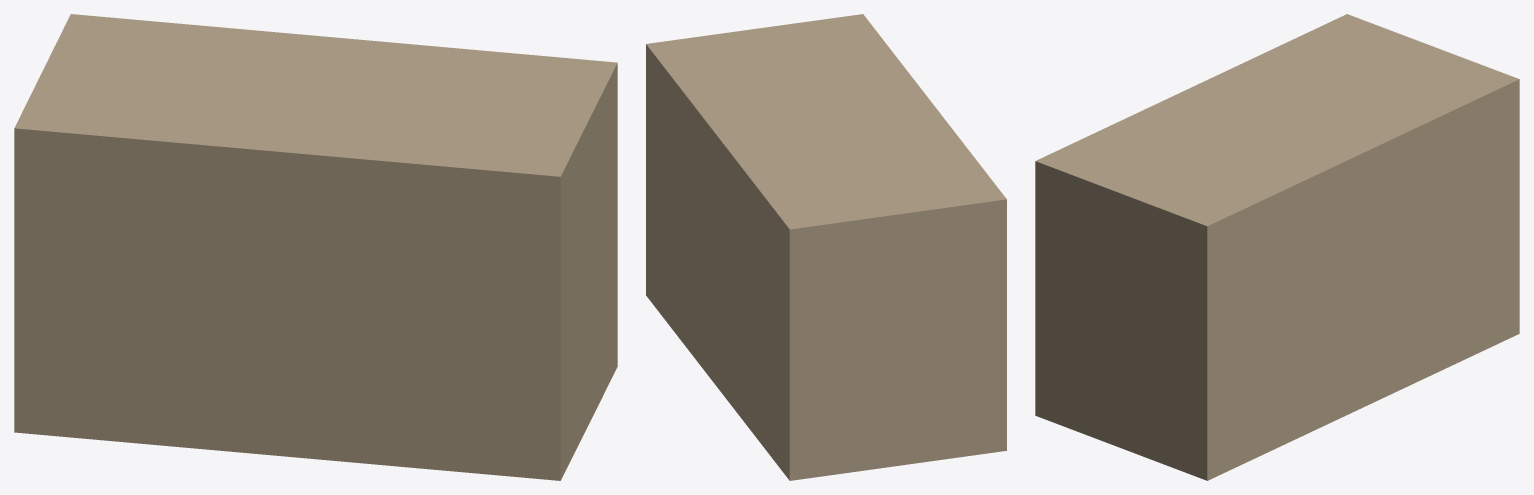
The model's file is bld_106338994.dae.
3 renders of one model, left to right at view 1: azimuth 30°, elevation 25°; view 2: azimuth 150°, elevation 25°; view 3: azimuth 270°, elevation 25°, orthographic. The views are drawn at different scales.
Visible parts, largest first — view 1: bld_106338994; view 2: bld_106338994; view 3: bld_106338994.
Boxes of the visible parts, x1,y1,x2,y2 form: bld_106338994: [14, 14, 617, 480]; bld_106338994: [646, 14, 1006, 480]; bld_106338994: [1035, 14, 1519, 480].
Size of the model in its own units: 14.31 by 13.79 by 8.
